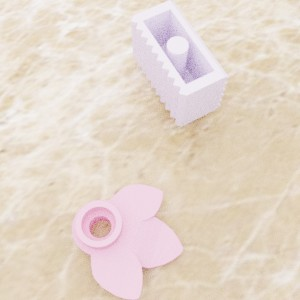lego: (71, 184, 182, 300), (130, 0, 229, 126)
